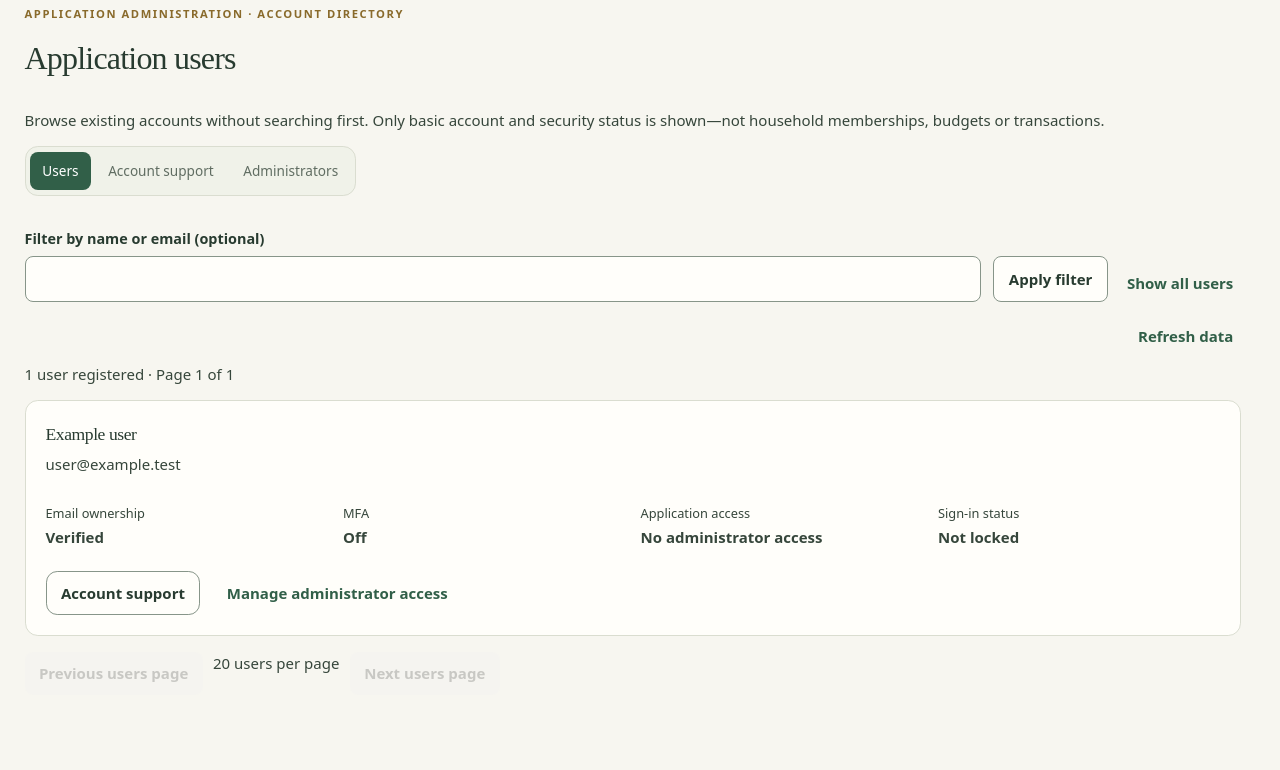
it: application user directory › retains clearly stale records on refresh failure but disables account shortcuts until refreshed
The image size is (1280, 770).
expect the heading "Example user" is shown: met, box [46, 424, 136, 444]
Step 1. Click the button "Refresh data" → x=1186, y=336, box [1131, 318, 1240, 355]
(page scrolled)
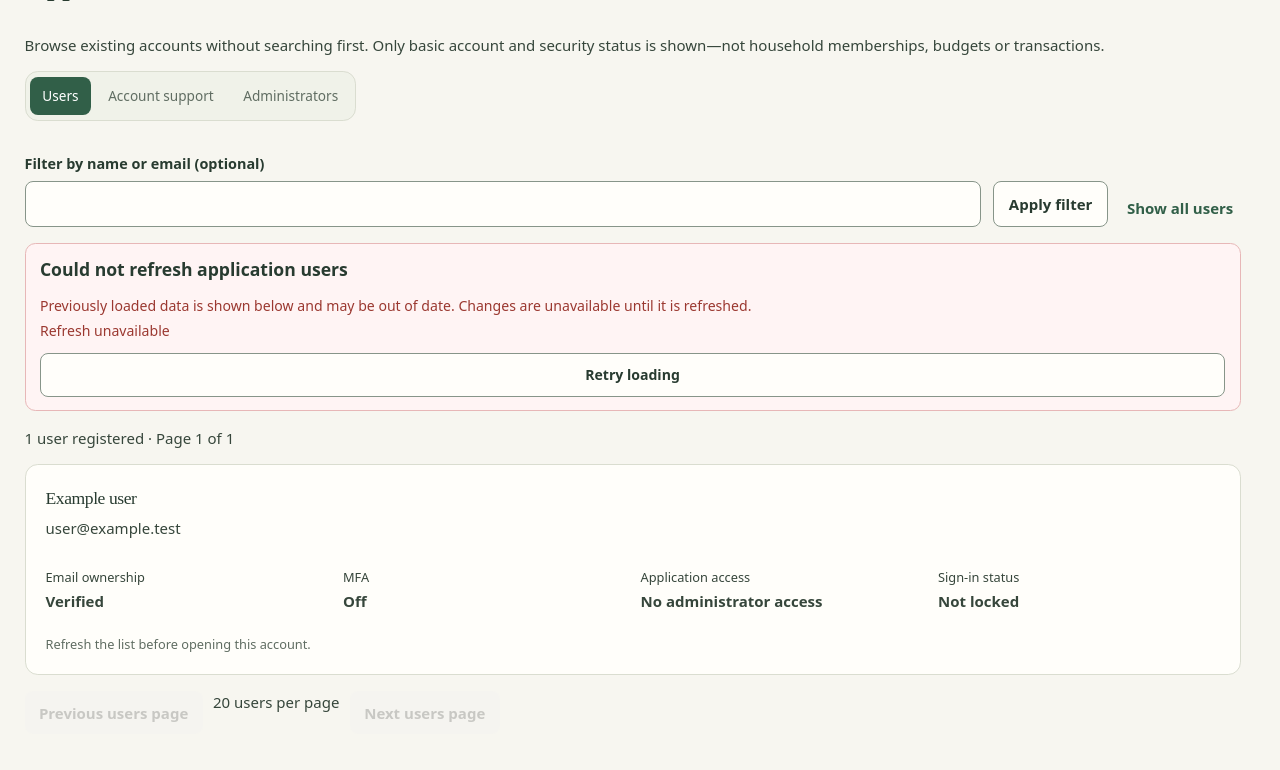
expect the heading "Example user" is shown: met, box [46, 488, 136, 508]
expect the text "Refresh unavailable" is shown: met, box [40, 321, 170, 340]
expect the text "Previously loaded data is shown" is shown: met, box [40, 296, 751, 315]
